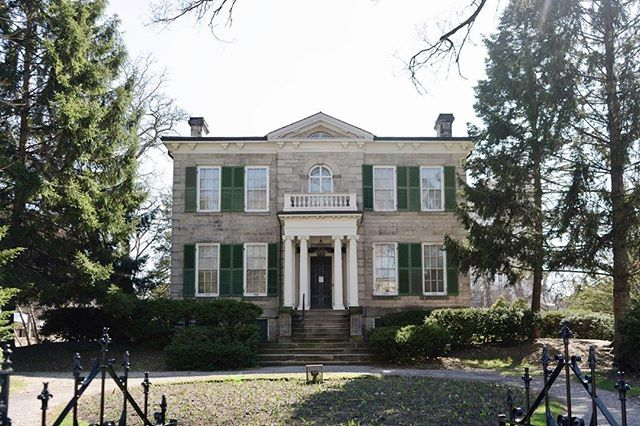building: (163, 130, 471, 331)
grass: (58, 364, 525, 426)
sky: (159, 1, 506, 120)
tree: (1, 1, 156, 308), (448, 1, 581, 302), (538, 1, 640, 362)
